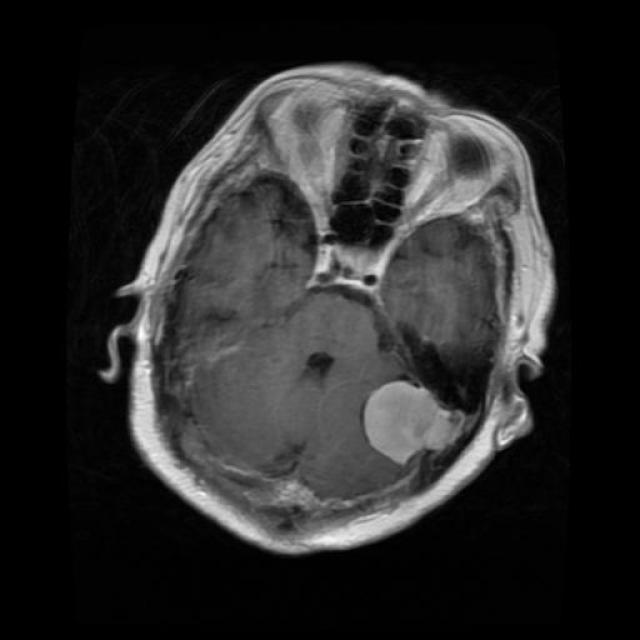Meningioma: (363, 381, 465, 464)
